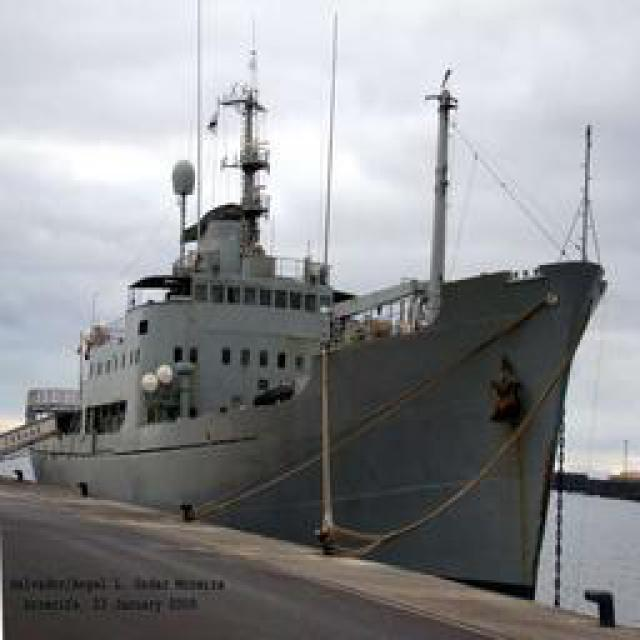Ship: (21, 16, 604, 601)
